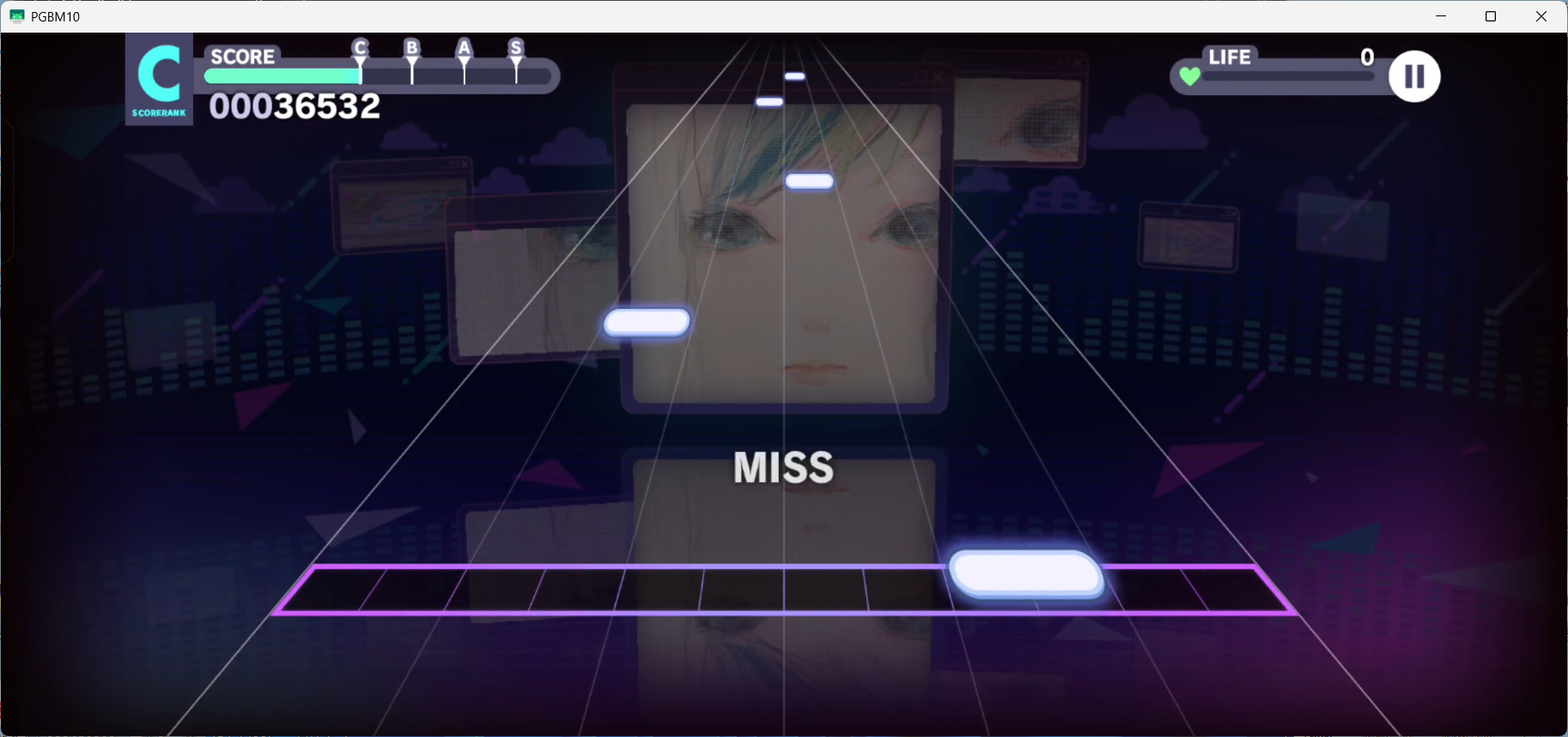tap: (949, 549, 1103, 600), (604, 309, 690, 337), (785, 173, 833, 189), (755, 97, 782, 106), (784, 72, 805, 80)
